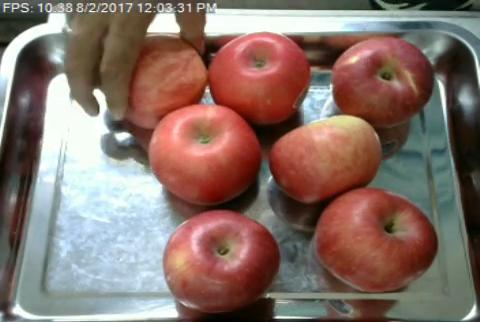apple: (316, 190, 437, 292), (164, 212, 280, 313), (150, 106, 260, 205), (271, 117, 380, 202), (333, 38, 435, 126), (211, 33, 312, 121), (128, 36, 205, 127)
